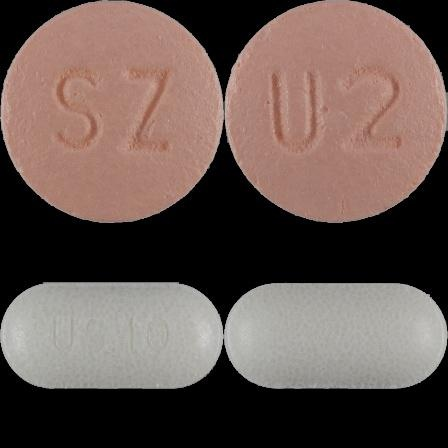0781-5656: (0, 0, 224, 224)
